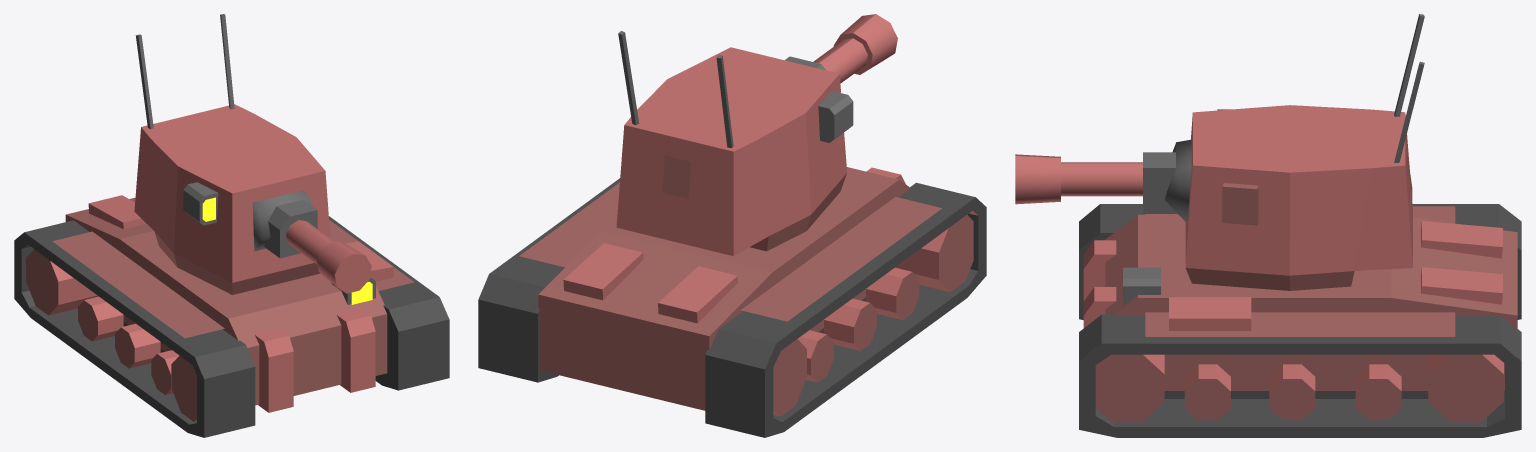
File: hellfire.glb
The picture shows the model from 3 angles, left to right: view 1: azimuth 30°, elevation 25°; view 2: azimuth 150°, elevation 25°; view 3: azimuth 270°, elevation 25°; orthographic projection. The views are drawn at different scales.
Visible parts, largest first — view 1: Cube.002, Cube, gun; view 2: Cube.002, Cube, gun; view 3: Cube.002, Cube, gun.
Boxes of the visible parts, x1,y1,x2,y2 form: Cube.002: (14, 195, 449, 437); Cube: (134, 14, 330, 294); gun: (264, 199, 371, 293); Cube.002: (478, 167, 986, 437); Cube: (616, 31, 853, 255); gun: (785, 14, 897, 83); Cube.002: (1079, 204, 1521, 437); Cube: (1165, 14, 1424, 290); gun: (1015, 152, 1177, 213).
Size of what is drawn, in the model's own units: 2.13 by 2.35 by 3.27.
